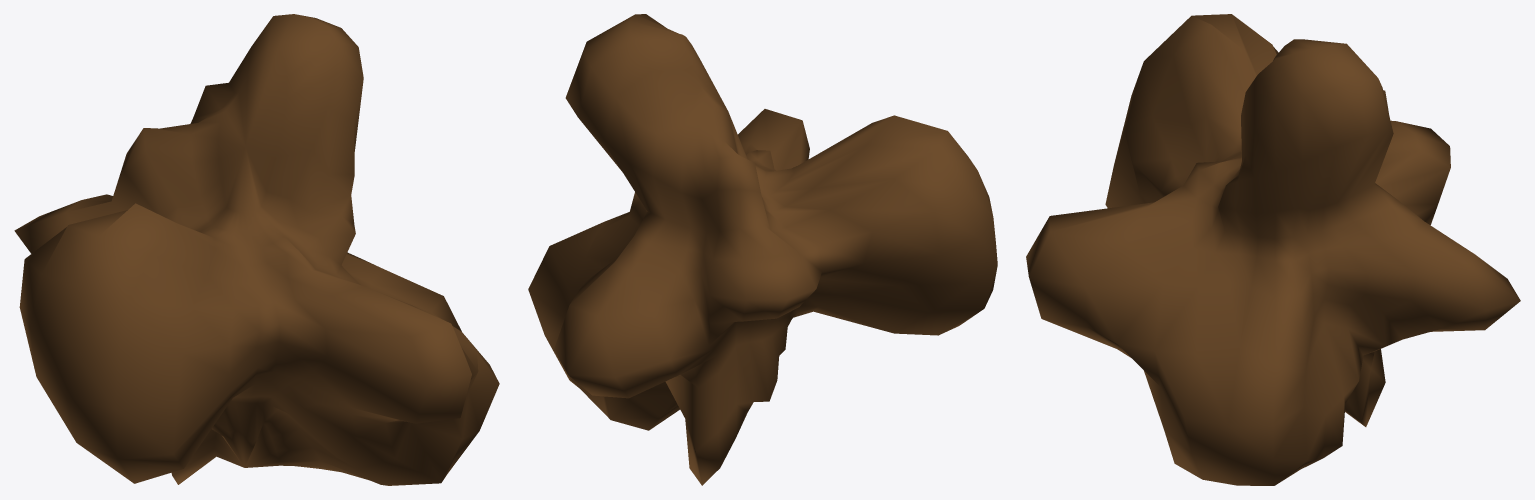
File: Asteroids3.fbx
3 renders of one model, left to right at view 1: azimuth 30°, elevation 25°; view 2: azimuth 150°, elevation 25°; view 3: azimuth 270°, elevation 25°, orthographic. The views are drawn at different scales.
Parts seen in each view (by area): view 1: Sphere; view 2: Sphere; view 3: Sphere.
Boxes of the visible parts, <box> form: Sphere: <box>14,14,499,485</box>; Sphere: <box>528,14,997,485</box>; Sphere: <box>1026,14,1520,485</box>.
Bounding box in the file's own units: 848 × 802 × 844.
